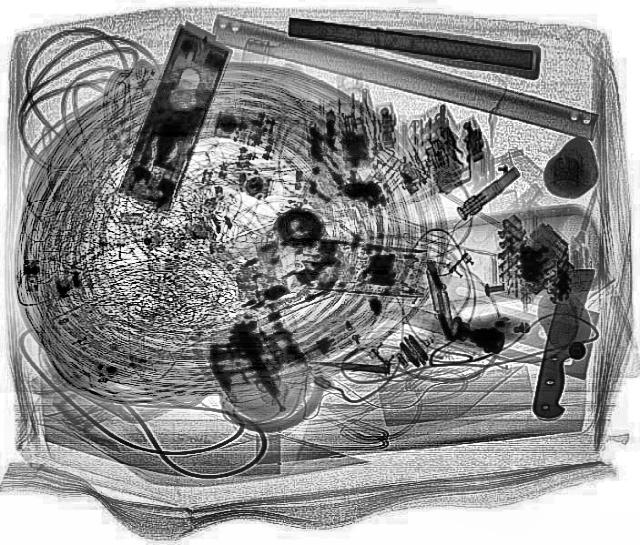Knife: (531, 264, 593, 418)
